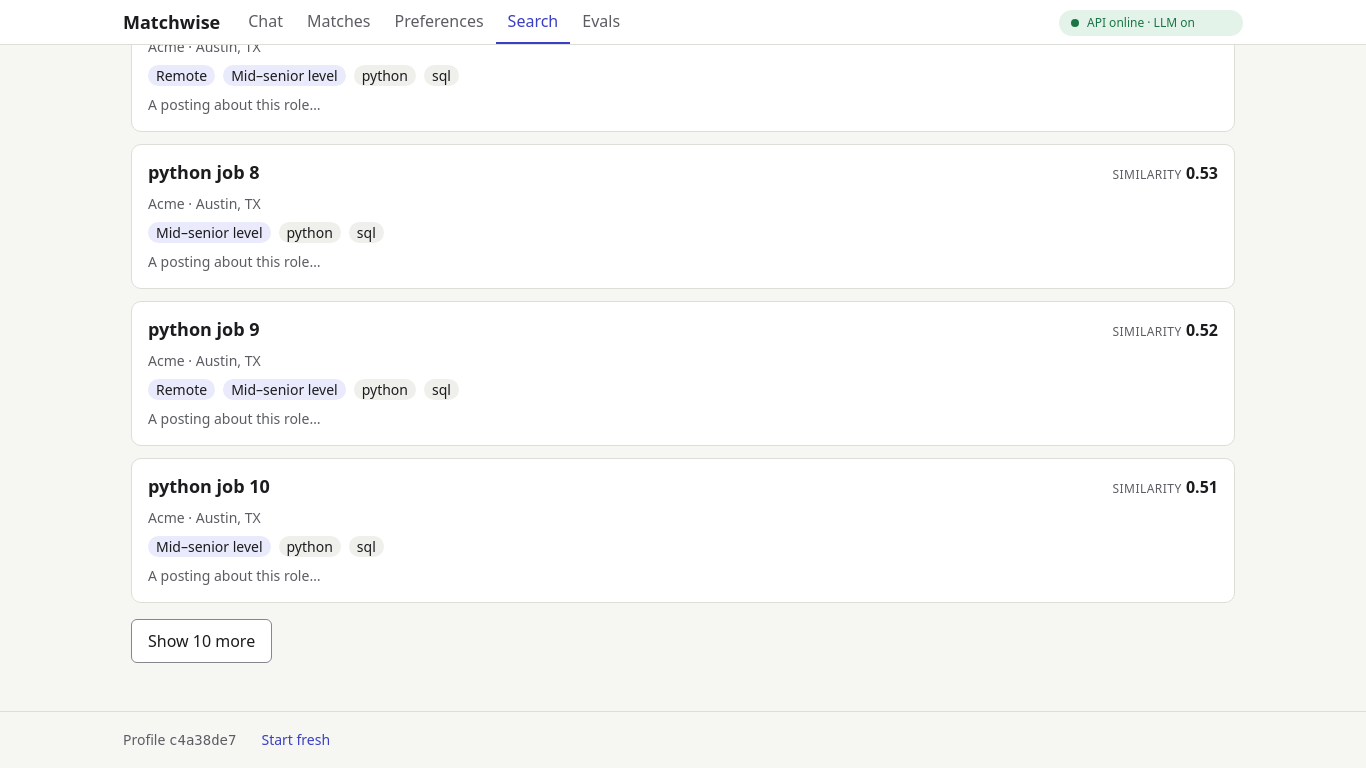
Test: searching › shows 10 more on request, keeping the size in the URL
The image size is (1366, 768).
(page scrolled)
Step 1. Click the button "Show 10 more" → {"x": 202, "y": 641}, box [131,619,272,663]
(page scrolled)
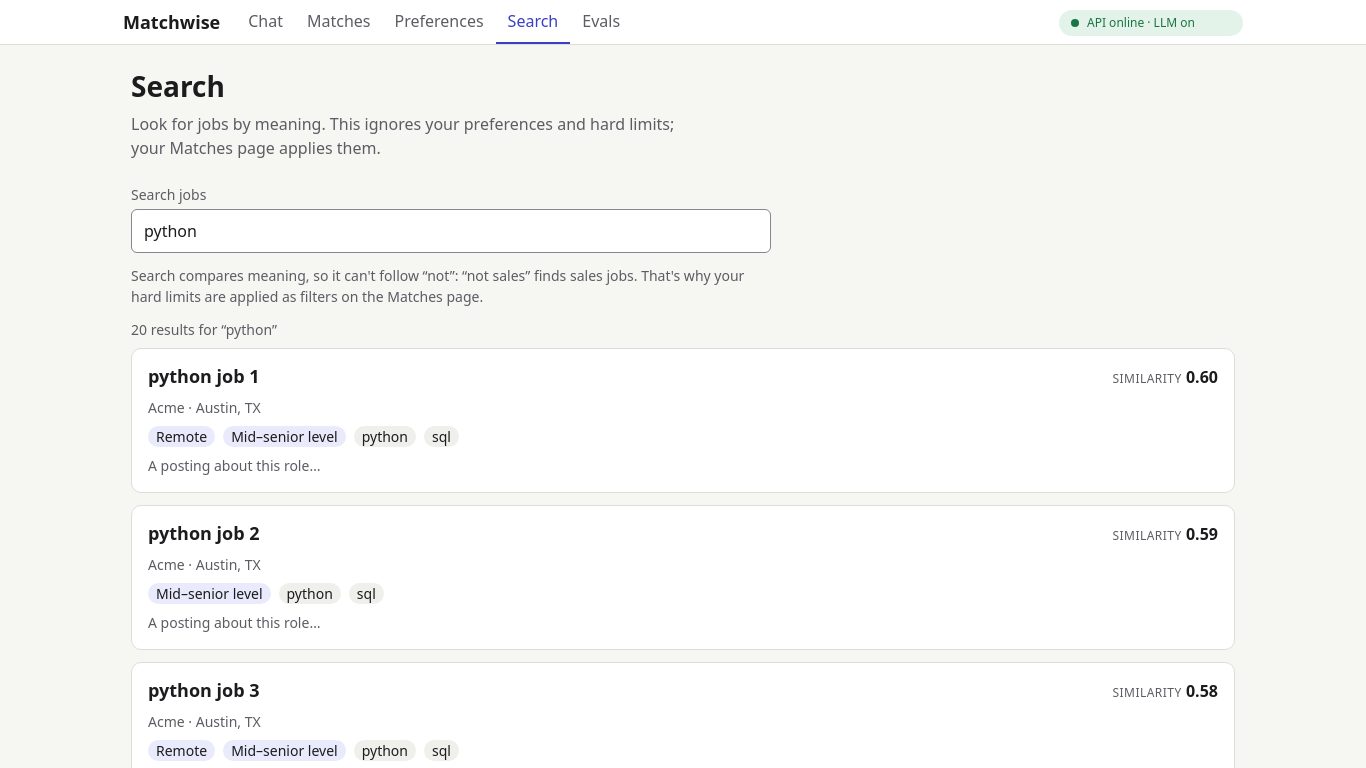
Now the text "20 results for “python”" is shown, box [131,320,277,339]
